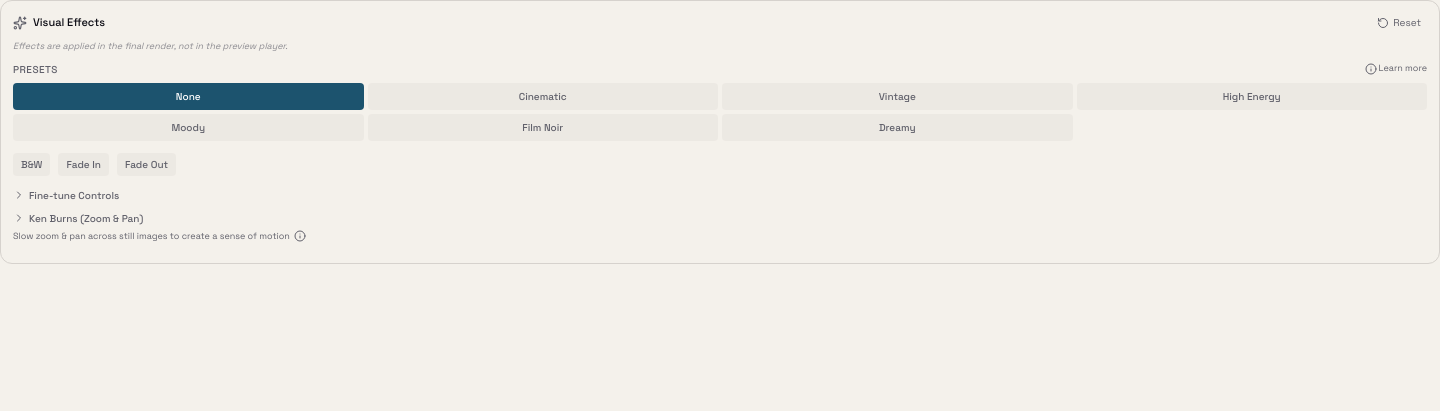
Test case: SceneEffectsPanel › renders Ken Burns controls after expanding
Click the button with test id "toggle-ken-burns": (86, 218) left=13, top=210, right=1427, bottom=226
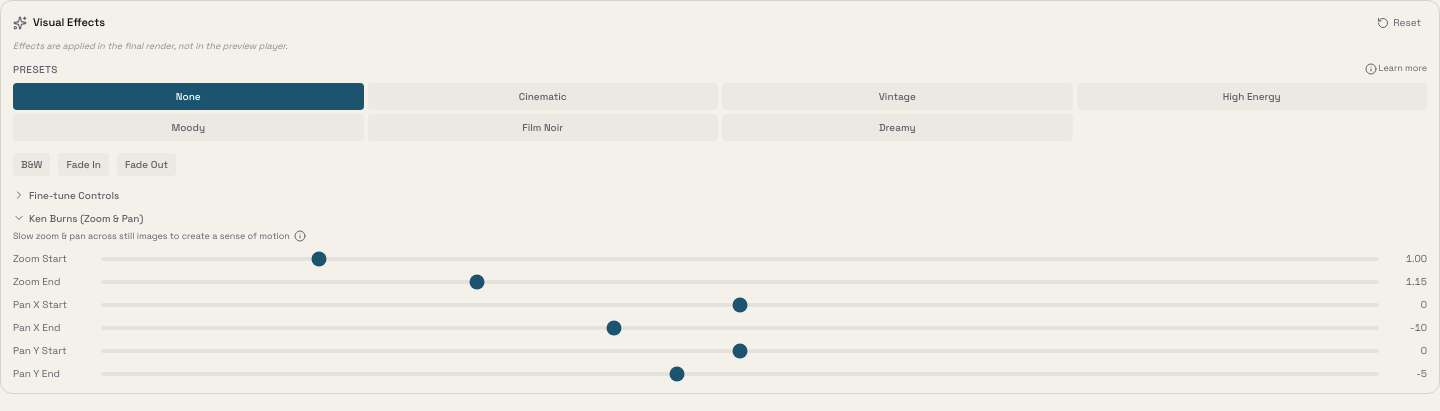
expect the slider with test id "kb-scaleFrom" is shown: met, box left=101, top=256, right=1379, bottom=260
expect the slider with test id "kb-scaleTo" is shown: met, box left=101, top=280, right=1379, bottom=284
